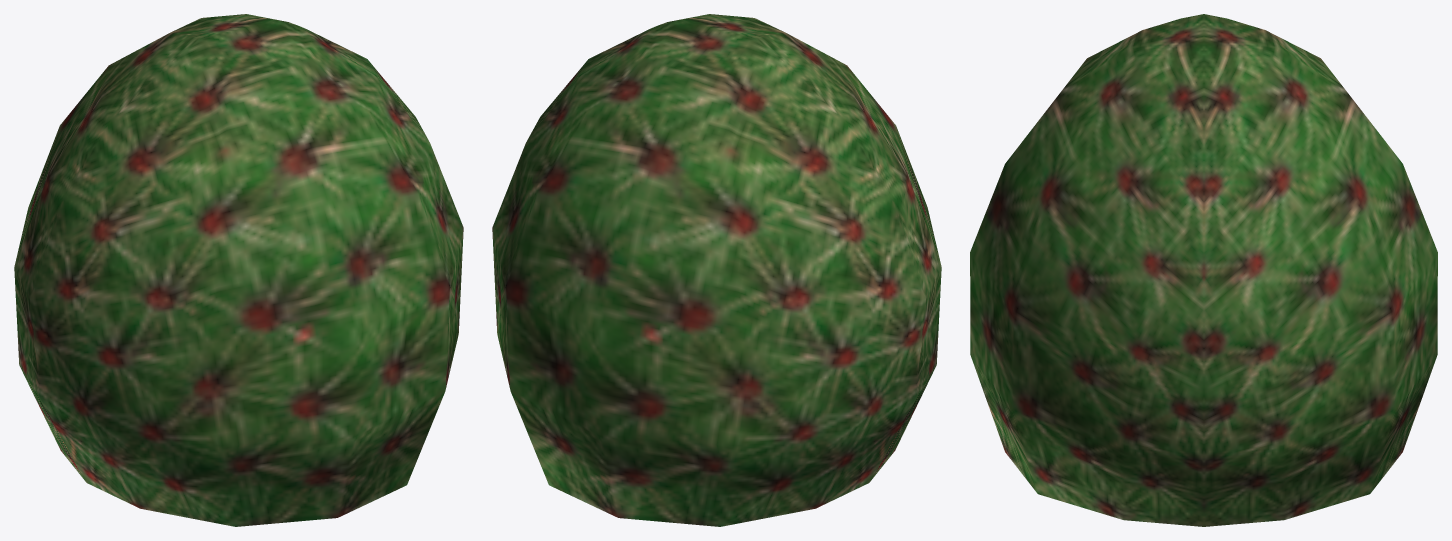
File: cactus-05.fbx
The picture shows the model from 3 angles, left to right: view 1: azimuth 30°, elevation 25°; view 2: azimuth 150°, elevation 25°; view 3: azimuth 270°, elevation 25°; orthographic projection.
Parts seen in each view (by area): view 1: Sphere.007_Sphere.008; view 2: Sphere.007_Sphere.008; view 3: Sphere.007_Sphere.008.
Part boxes in pixels (x1,y1,x2,y2): Sphere.007_Sphere.008: [14, 14, 463, 526]; Sphere.007_Sphere.008: [492, 14, 941, 526]; Sphere.007_Sphere.008: [970, 14, 1437, 526].
Bounding box in the file's own units: 0.398 × 0.381 × 0.3852.
